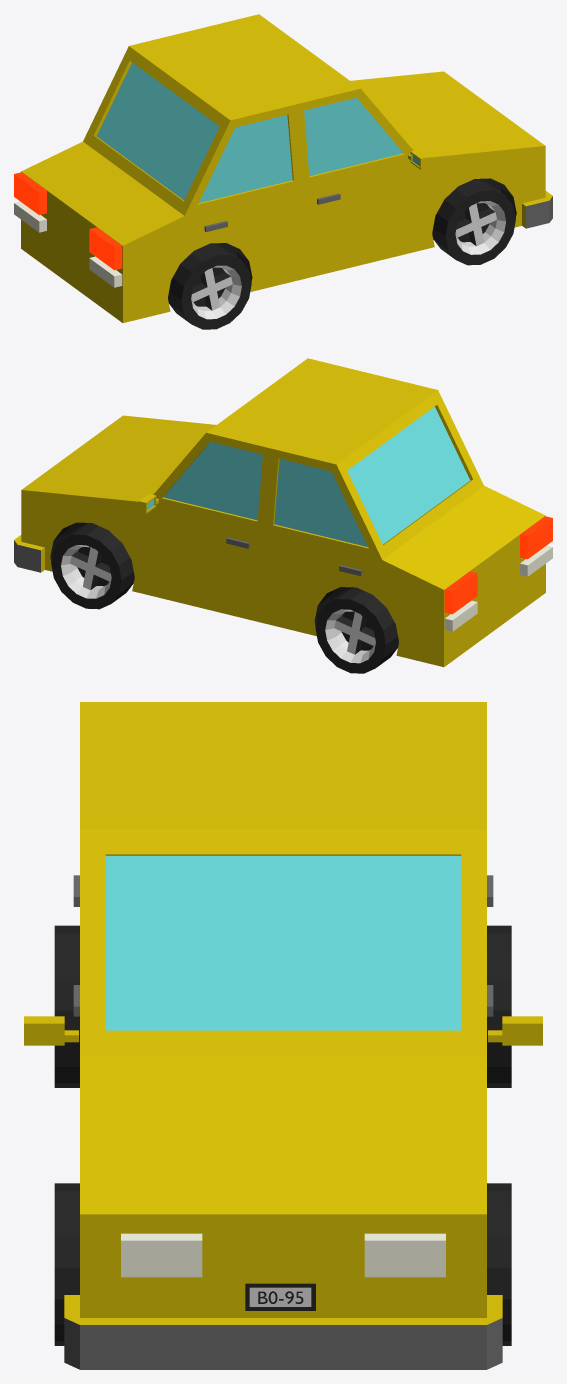
The model's file is car.fbx.
3 views of the same model, one above another, from view 1: azimuth 30°, elevation 25°; view 2: azimuth 150°, elevation 25°; view 3: azimuth 270°, elevation 25° (orthographic). The views are drawn at different scales.
Visible parts, largest first — view 1: Cube, Wheel.001, Wheel; view 2: Cube, Wheel.003, Wheel.002; view 3: Cube, Wheel.001, Wheel, Wheel.003, Wheel.002.
Boxes of the visible parts, box(x1,y1,x2,y2) form: Cube: box(14, 14, 552, 322); Wheel.001: box(168, 244, 251, 329); Wheel: box(432, 179, 515, 265); Cube: box(14, 358, 552, 667); Wheel.003: box(315, 588, 398, 673); Wheel.002: box(51, 523, 134, 609); Cube: box(24, 702, 542, 1369); Wheel.001: box(54, 925, 79, 1087); Wheel: box(54, 1183, 79, 1345); Wheel.003: box(487, 925, 511, 1087); Wheel.002: box(487, 1183, 511, 1345).
Size of the model in its own units: 497 by 216 by 255.
